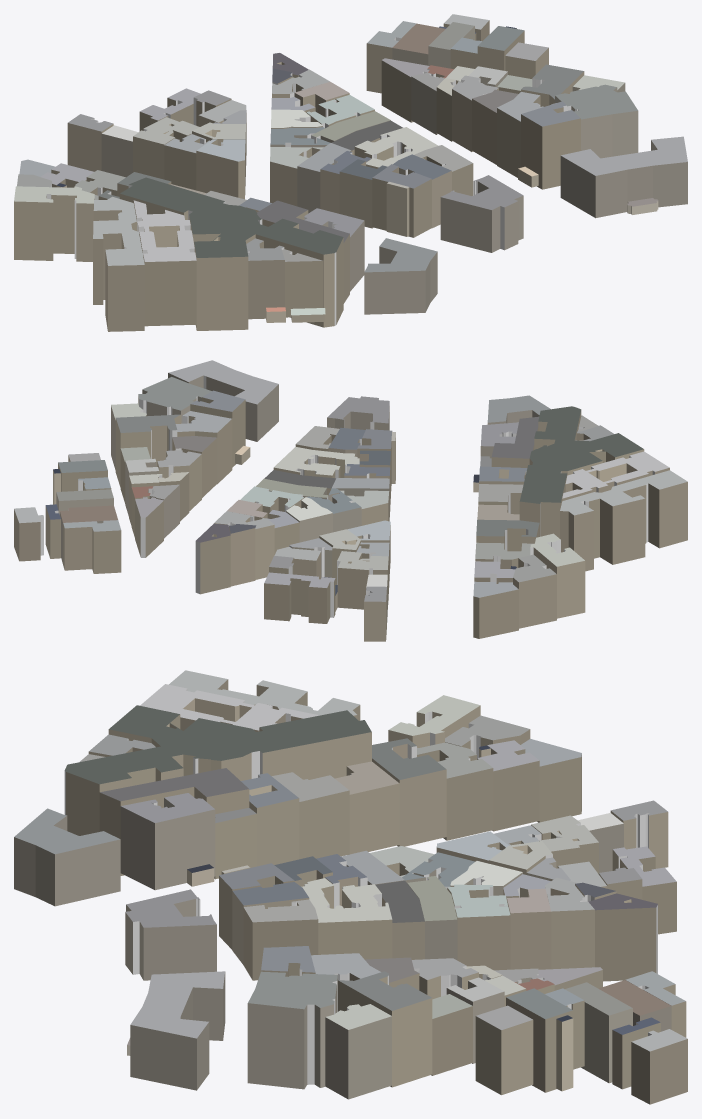
The picture shows the model from 3 angles, top to bottom: view 1: azimuth 30°, elevation 25°; view 2: azimuth 150°, elevation 25°; view 3: azimuth 270°, elevation 25°; orthographic projection. The views are drawn at different scales.
Visible parts, largest first — view 1: tuile; view 2: tuile; view 3: tuile.
Boxes of the visible parts, x1,y1,x2,y2 form: tuile: [14, 14, 687, 331]; tuile: [14, 360, 687, 641]; tuile: [14, 670, 687, 1104].
Bounding box in the file's own units: 276 × 37.4 × 224.
